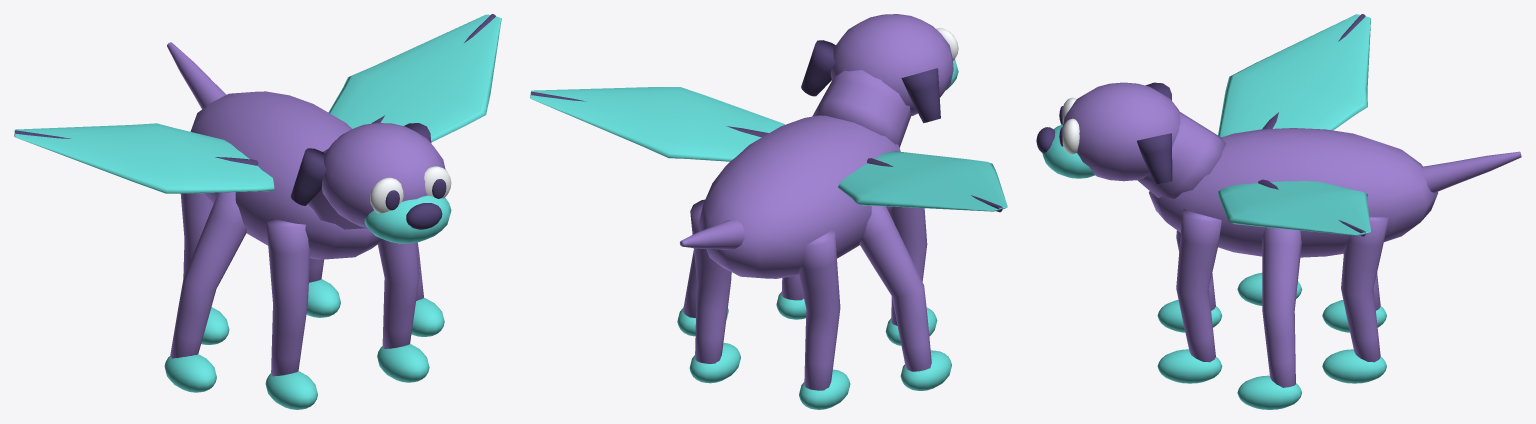
The model's file is demo-winged-creature-input.glb.
3 views of the same model, side by side, from view 1: azimuth 30°, elevation 25°; view 2: azimuth 150°, elevation 25°; view 3: azimuth 270°, elevation 25° (orthographic). The views are drawn at different scales.
Parts seen in each view (by area): view 1: body-mesh, wing-membrane-right, wing-membrane-left, head-mesh, leg-middle.left, leg-front.left, leg-front.right, muzzle, paw-middle.left, paw-front.left, paw-front.right, leg-rear.left (+9 smaller); view 2: body-mesh, wing-membrane-right, wing-membrane-left, head-mesh, leg-middle.left, leg-rear.left, neck-mesh, leg-rear.right, leg-front.left, ear-left, tail-mesh, ear-right (+7 smaller); view 3: body-mesh, wing-membrane-left, head-mesh, wing-membrane-right, leg-middle.right, leg-front.right, leg-rear.right, neck-mesh, tail-mesh, paw-middle.right, paw-front.right, paw-rear.right (+6 smaller).
Boxes of the visible parts, left/top/right/bottom form: body-mesh: left=190, top=91, right=383, bottom=259; wing-membrane-right: left=328, top=14, right=501, bottom=142; wing-membrane-left: left=14, top=123, right=274, bottom=193; head-mesh: left=321, top=123, right=445, bottom=228; leg-middle.left: left=170, top=192, right=246, bottom=358; leg-front.left: left=266, top=218, right=310, bottom=376; leg-front.right: left=378, top=240, right=419, bottom=348; muzzle: left=364, top=195, right=451, bottom=243; paw-middle.left: left=164, top=354, right=216, bottom=392; paw-front.left: left=265, top=371, right=317, bottom=409; paw-front.right: left=377, top=344, right=429, bottom=382; leg-rear.left: left=180, top=193, right=212, bottom=277; body-mesh: left=698, top=115, right=900, bottom=278; wing-membrane-right: left=530, top=87, right=784, bottom=161; wing-membrane-left: left=838, top=151, right=1007, bottom=211; head-mesh: left=830, top=14, right=953, bottom=115; leg-middle.left: left=859, top=206, right=931, bottom=371; leg-rear.left: left=798, top=230, right=840, bottom=390; neck-mesh: left=812, top=70, right=911, bottom=147; leg-rear.right: left=690, top=199, right=731, bottom=363; leg-front.left: left=889, top=206, right=927, bottom=325; ear-left: left=901, top=68, right=940, bottom=123; tail-mesh: left=680, top=220, right=744, bottom=249; ear-right: left=801, top=40, right=835, bottom=96; body-mesh: left=1149, top=128, right=1437, bottom=257; wing-membrane-left: left=1218, top=14, right=1370, bottom=137; head-mesh: left=1062, top=82, right=1180, bottom=181; wing-membrane-right: left=1217, top=181, right=1370, bottom=235; leg-middle.right: left=1262, top=227, right=1301, bottom=387; leg-front.right: left=1176, top=209, right=1221, bottom=362; leg-rear.right: left=1341, top=217, right=1388, bottom=362; neck-mesh: left=1137, top=112, right=1226, bottom=198; tail-mesh: left=1421, top=151, right=1521, bottom=192; paw-middle.right: left=1237, top=375, right=1301, bottom=409; paw-front.right: left=1157, top=349, right=1222, bottom=383; paw-rear.right: left=1322, top=349, right=1386, bottom=383.
Size of the model in its own units: 2.09 by 1.18 by 1.94.
